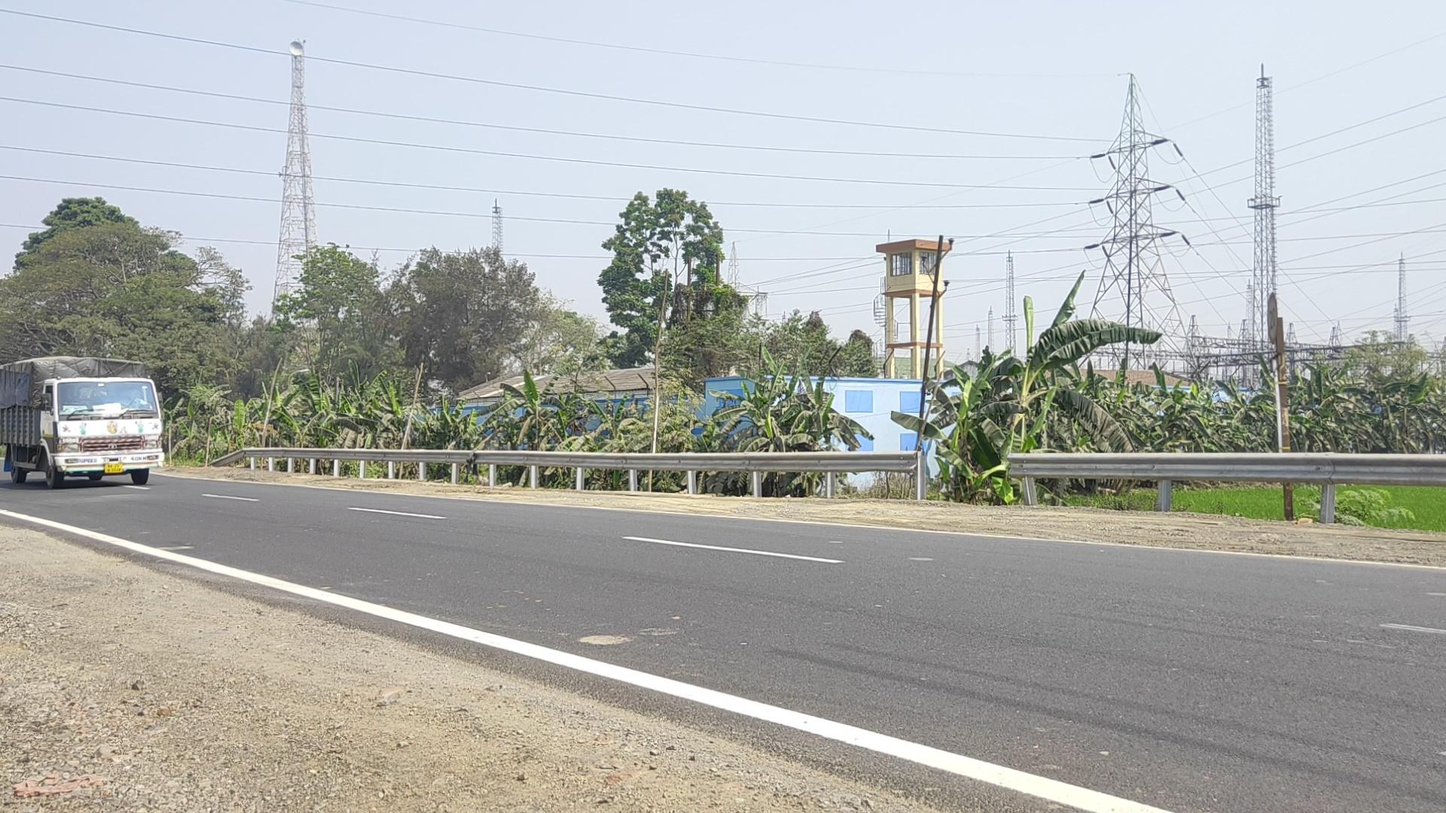truck: (2, 356, 165, 489)
